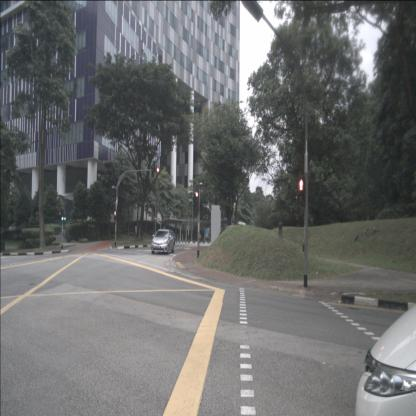human-pedestrian-adult: (134, 224, 138, 241), (136, 224, 140, 241)
vehicle-car: (151, 228, 175, 254)
